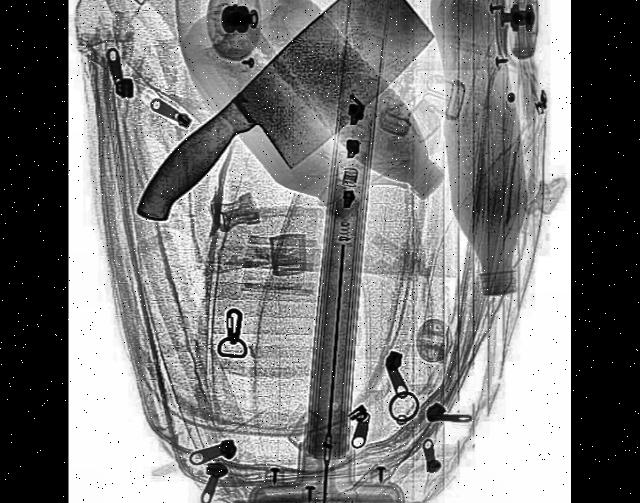Knife: (126, 0, 441, 293)
